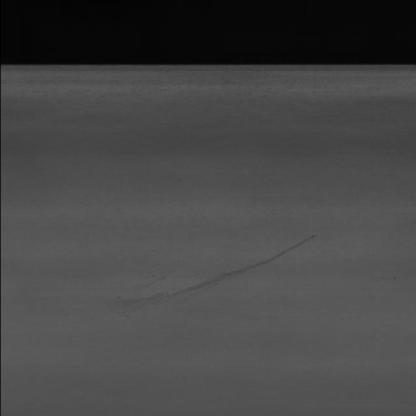water_spot: (88, 224, 327, 314)
